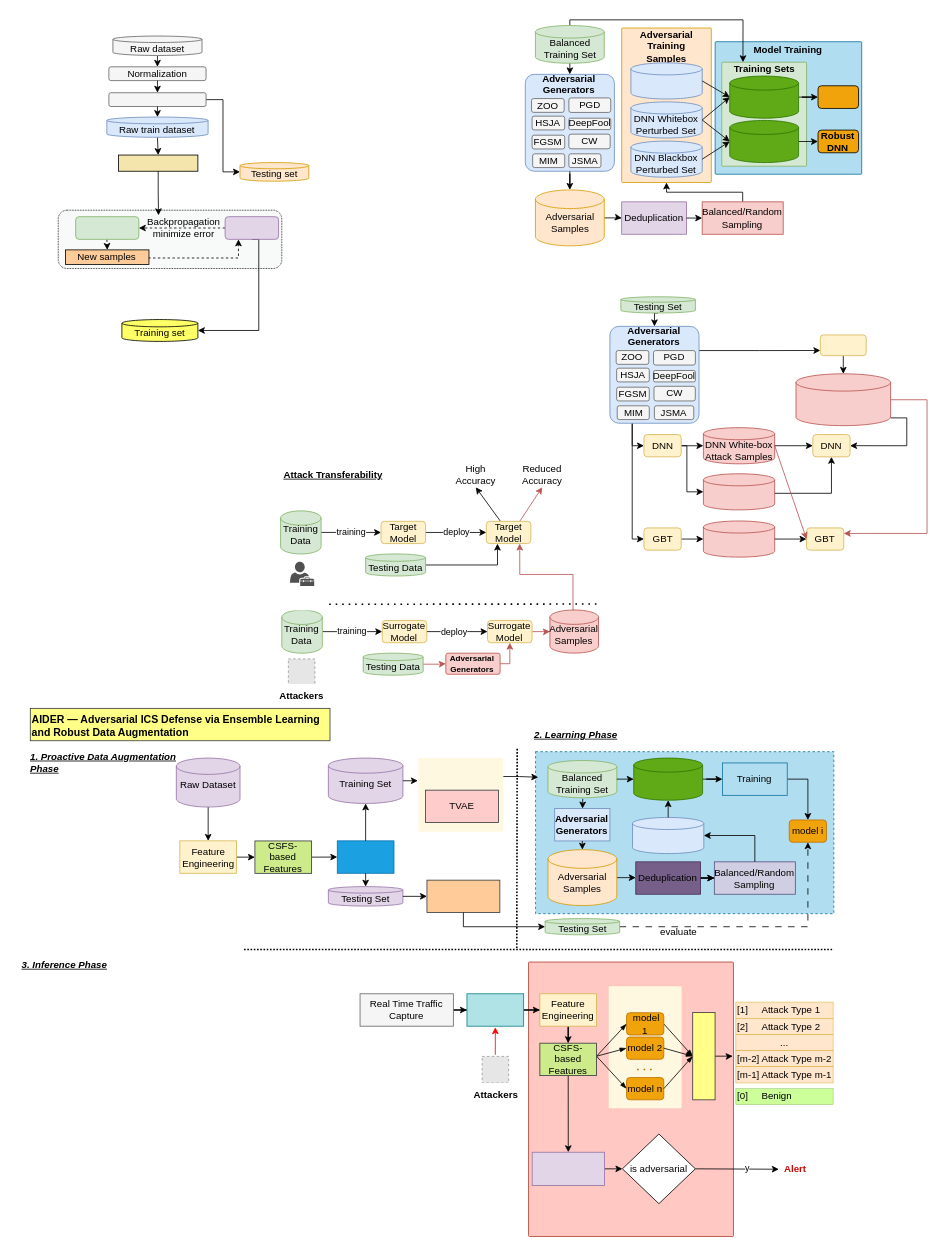
The diagram is 948 pixels wide and 1251 high, and some of its shapes have lost their labels. Grey dashed boxes stand in for pictures. Here are the shapes that lost their labels. From the top down, the box of each, then its label:
(108, 92, 206, 107): RandomSplit
(630, 62, 702, 99): GBT Blackbox Perturbed Set
(729, 75, 799, 118): GBT Training Set
(817, 85, 859, 108): Robust GBT
(729, 120, 799, 163): DNN Training Set
(118, 154, 198, 171): Minority classes
(75, 216, 139, 239): TVAE Augmentation
(224, 216, 279, 239): Validation
(820, 334, 866, 356): Surrogate
(795, 373, 891, 426): DNN Black-box/Whitebox Attack Samples
(703, 473, 775, 510): DNN Black-box Attack Samples
(703, 520, 775, 557): GBT Black-box Attack Samples
(276, 586, 325, 610): Admin
(418, 758, 503, 831): Augmentation
(633, 757, 703, 800): Robust Training Set
(632, 817, 704, 854): Perturbed Set
(535, 751, 834, 914): Ensemble Adversarial Training
(336, 840, 394, 873): Split
(426, 879, 500, 913): Random Sampling
(466, 993, 524, 1026): Flow Featurization
(608, 986, 681, 1108): Ensemble
(692, 1012, 715, 1100): Robust Mutual Inference
(528, 961, 733, 1236): FOAMI
(531, 1151, 604, 1185): Adversarial Detector
